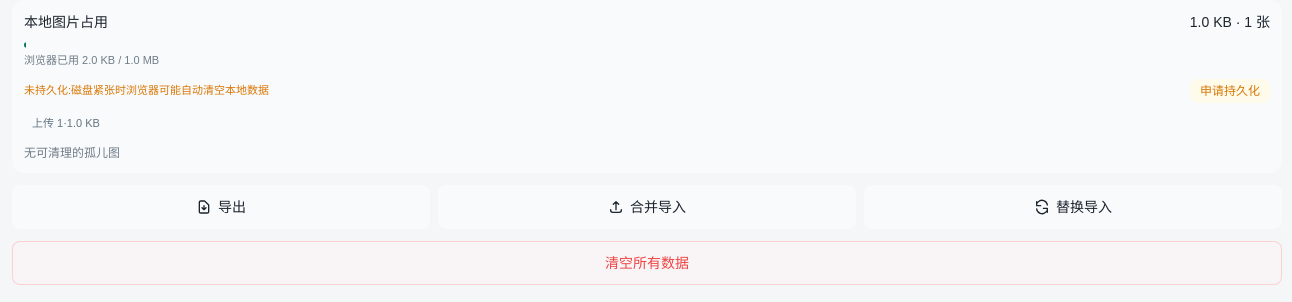
Test: DataManagementSection 持久化徽标(H4) › 申请成功后切换为已授权徽标
This screenshot has width=1292, height=302.
What coordinates should you click on to do the following:
click the button "申请持久化"
I would click on:
 (1230, 90)
Its box is [1190,78,1270,102].
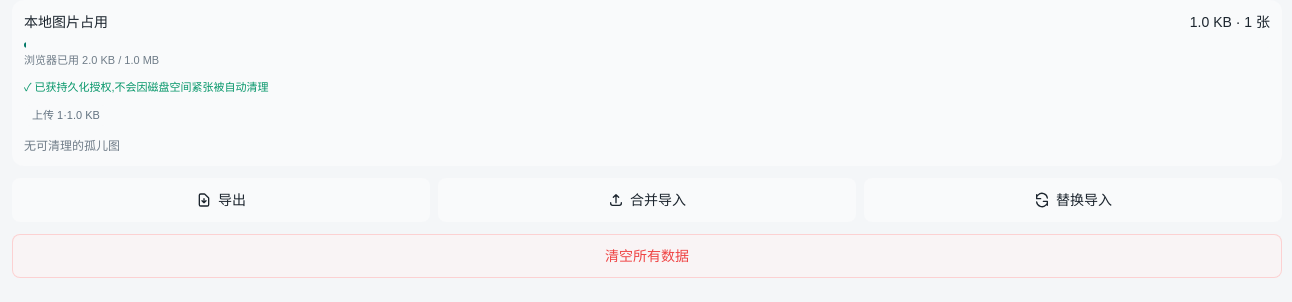
Expected: the text "✓ 已获持久化授权,不会因磁盘空间紧张被自动清理" is shown, [24,78,269,95]
